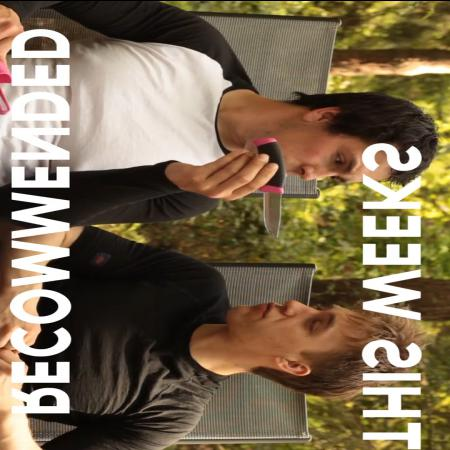long weapon: (233, 130, 301, 246)
